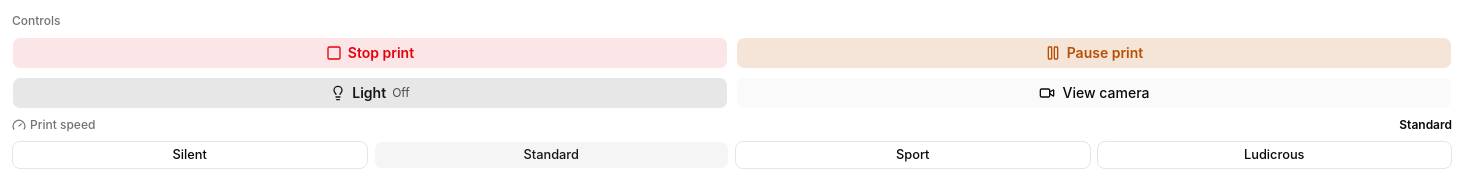
Scenario: usePrinterControl › blocks repeat submissions and shows a spinner while the command is in flight
Click the button "Light Off". click: coordinates (370, 93)
box: [12,77,728,109]
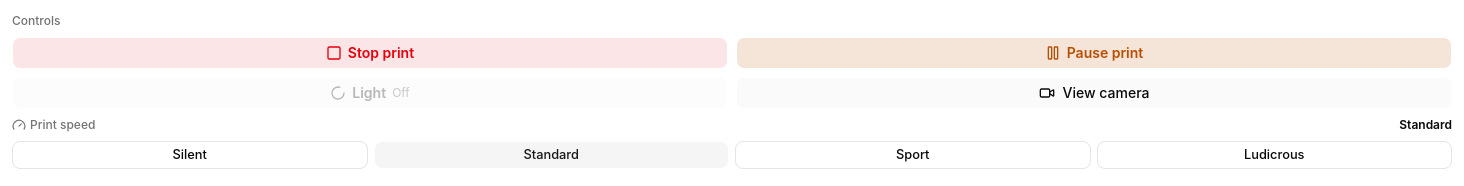
Expected: the icon with class "animate-spin" is shown, [330,85,346,101]
Now the button "Light Off" is disabled
Click the button "Light Off". click: coordinates (370, 93)
box: [12,77,728,109]
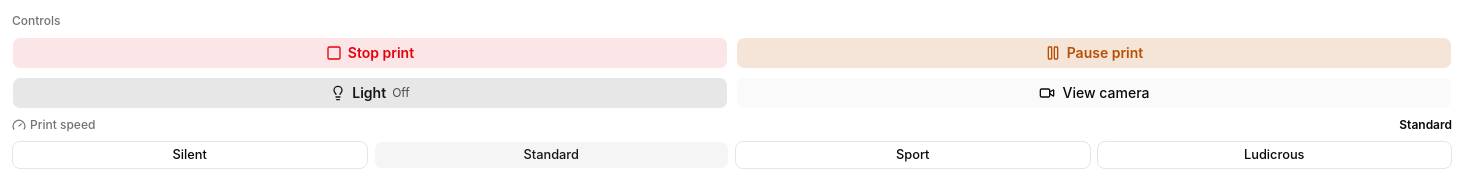
Now the button "Light Off" is enabled, box [12,77,728,109]
Now the icon with class "animate-spin" is gone
